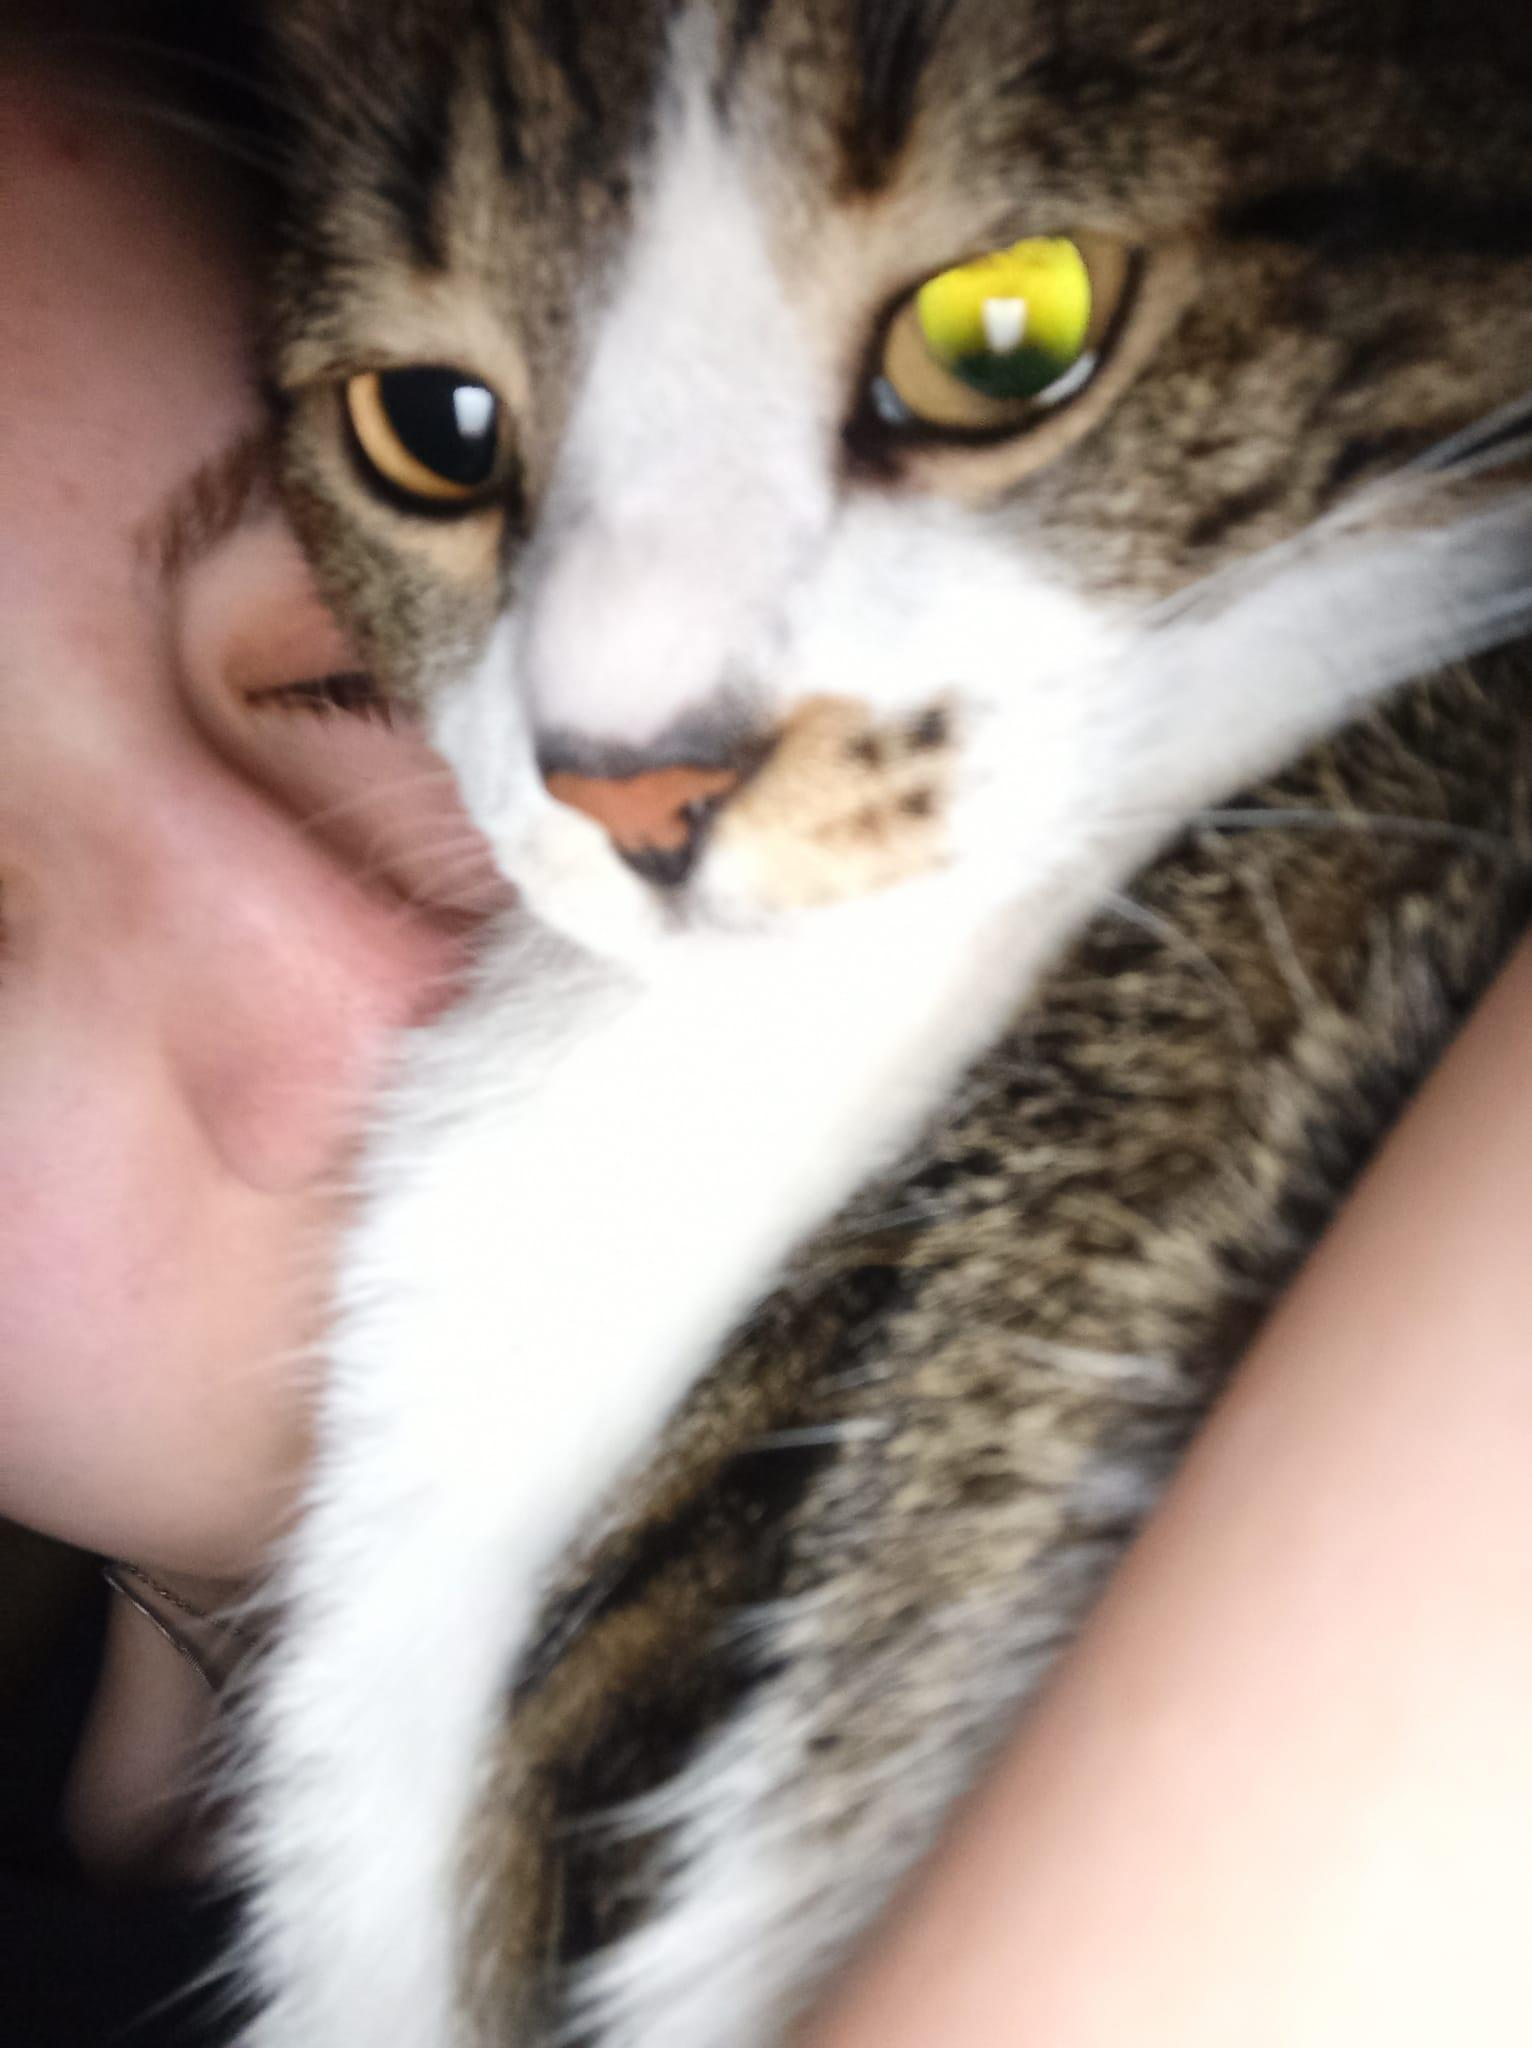kedo: (330, 3, 1484, 981)
